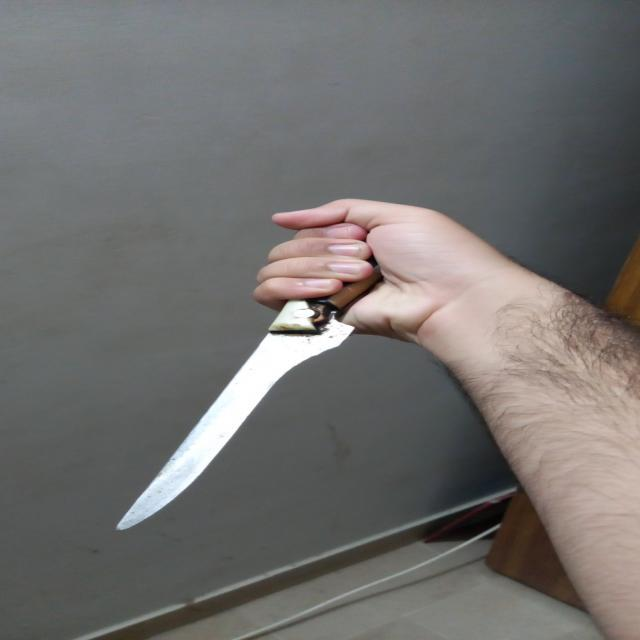knife: (118, 218, 394, 528)
